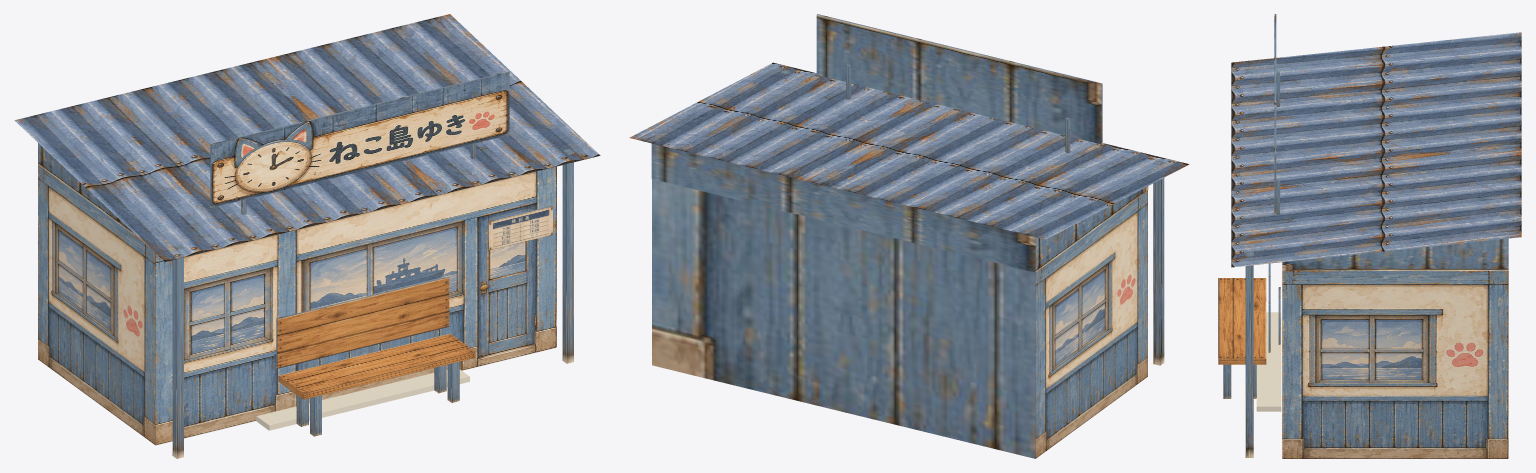
Rendered from nyanisyarud-harbor-ferry.glb.
3 views of the same model, side by side, from view 1: azimuth 30°, elevation 25°; view 2: azimuth 150°, elevation 25°; view 3: azimuth 270°, elevation 25° (orthographic). The views are drawn at different scales.
Parts seen in each view (by area): view 1: Cat_Island_Ferry_Shelter; view 2: Cat_Island_Ferry_Shelter; view 3: Cat_Island_Ferry_Shelter.
Part boxes in pixels (x1,y1,x2,y2): Cat_Island_Ferry_Shelter: [14, 14, 600, 458]; Cat_Island_Ferry_Shelter: [629, 14, 1189, 458]; Cat_Island_Ferry_Shelter: [1218, 14, 1521, 458].
Size of the model in its own units: 3.04 by 1.94 by 1.9.
1 material, 1 textured.
